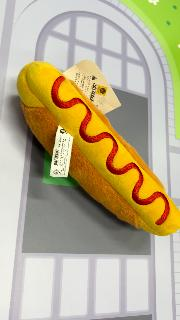hotdog: (16, 61, 180, 237)
